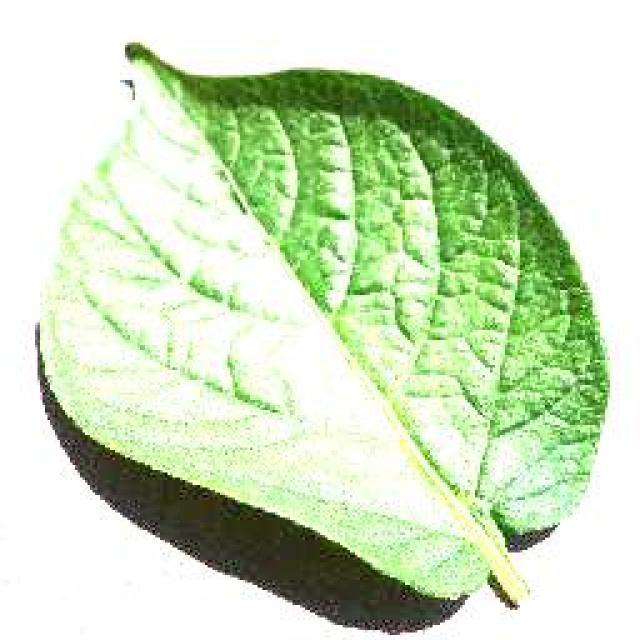Potato___healthy: (33, 38, 613, 611)
